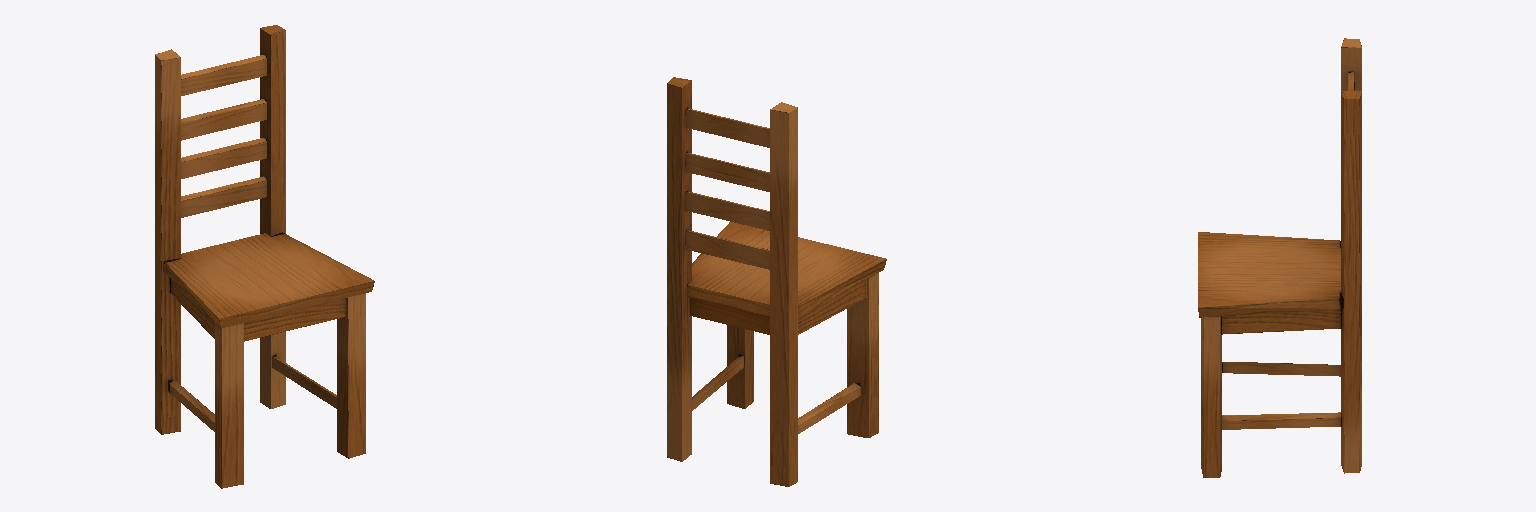
3 renders of one model, left to right at view 1: azimuth 30°, elevation 25°; view 2: azimuth 150°, elevation 25°; view 3: azimuth 270°, elevation 25°, orthographic.
Parts seen in each view (by area): view 1: Chair_mesh; view 2: Chair_mesh; view 3: Chair_mesh.
Boxes of the visible parts, x1,y1,x2,y2 form: Chair_mesh: [155, 25, 374, 488]; Chair_mesh: [667, 77, 886, 486]; Chair_mesh: [1198, 38, 1361, 477].
Bounding box in the file's own units: 5.58 × 12.78 × 5.09.
Materials: 1 (1 with a texture image).